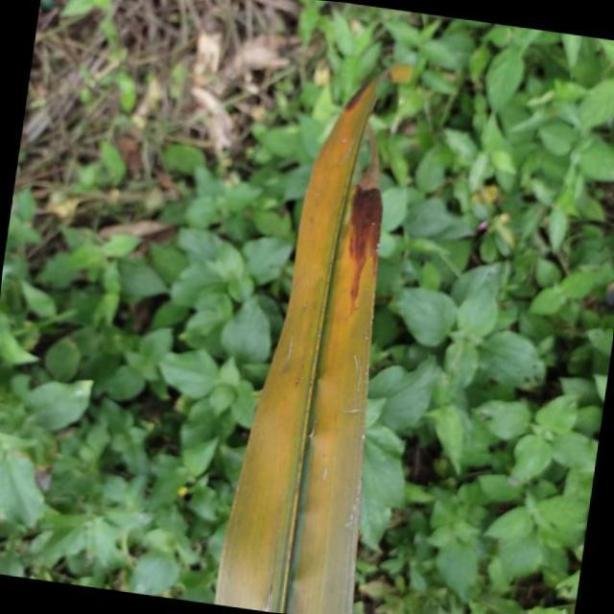Megnesium: (208, 65, 416, 614)
